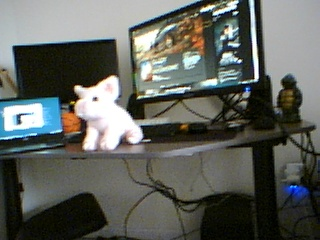piggy: (71, 74, 145, 153)
